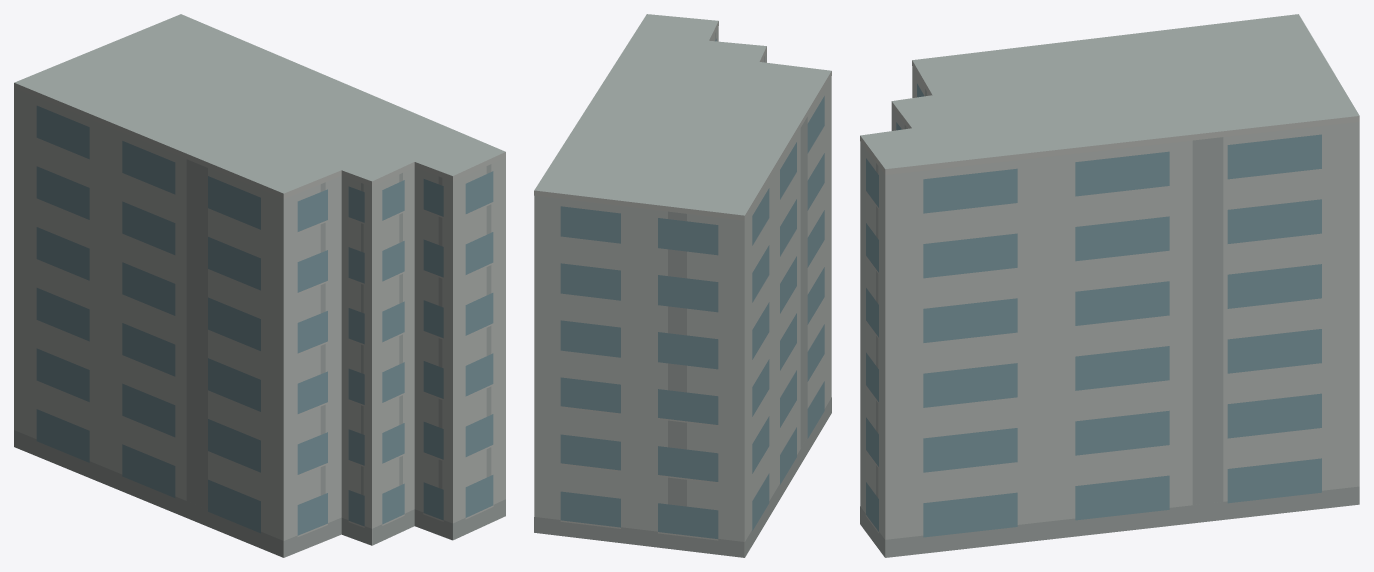
The model's file is survey-upis-32562316.glb.
The picture shows the model from 3 angles, left to right: view 1: azimuth 30°, elevation 25°; view 2: azimuth 150°, elevation 25°; view 3: azimuth 270°, elevation 25°; orthographic projection. The views are drawn at different scales.
Visible parts, largest first — view 1: survey-upis-32562316.tmp; view 2: survey-upis-32562316.tmp; view 3: survey-upis-32562316.tmp.
Part boxes in pixels (x1=…): survey-upis-32562316.tmp: x1=14, y1=14, x2=505, y2=557; survey-upis-32562316.tmp: x1=534, y1=14, x2=831, y2=557; survey-upis-32562316.tmp: x1=860, y1=14, x2=1359, y2=557.
Size of the model in its own units: 13.79 by 16.1 by 18.76.
